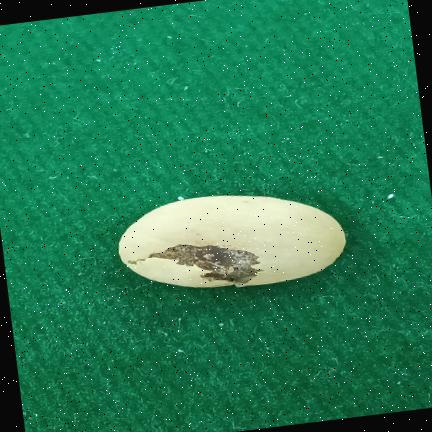parchment: (119, 195, 345, 287)
